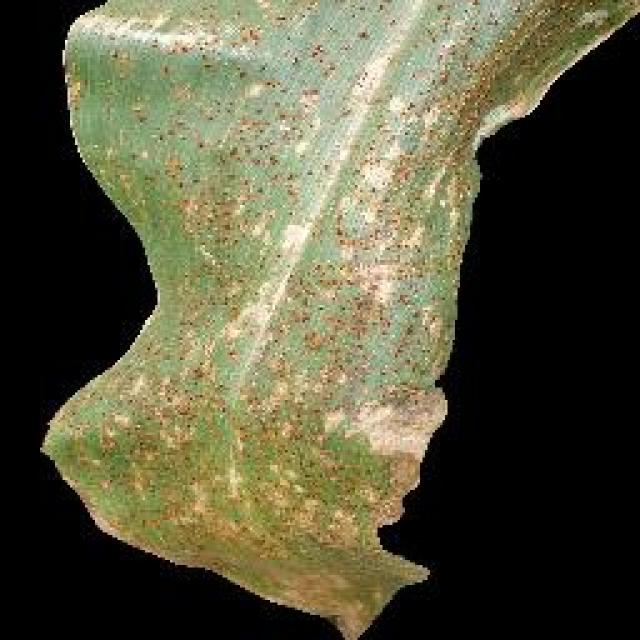Corn Common Rust: (107, 93, 478, 530)
